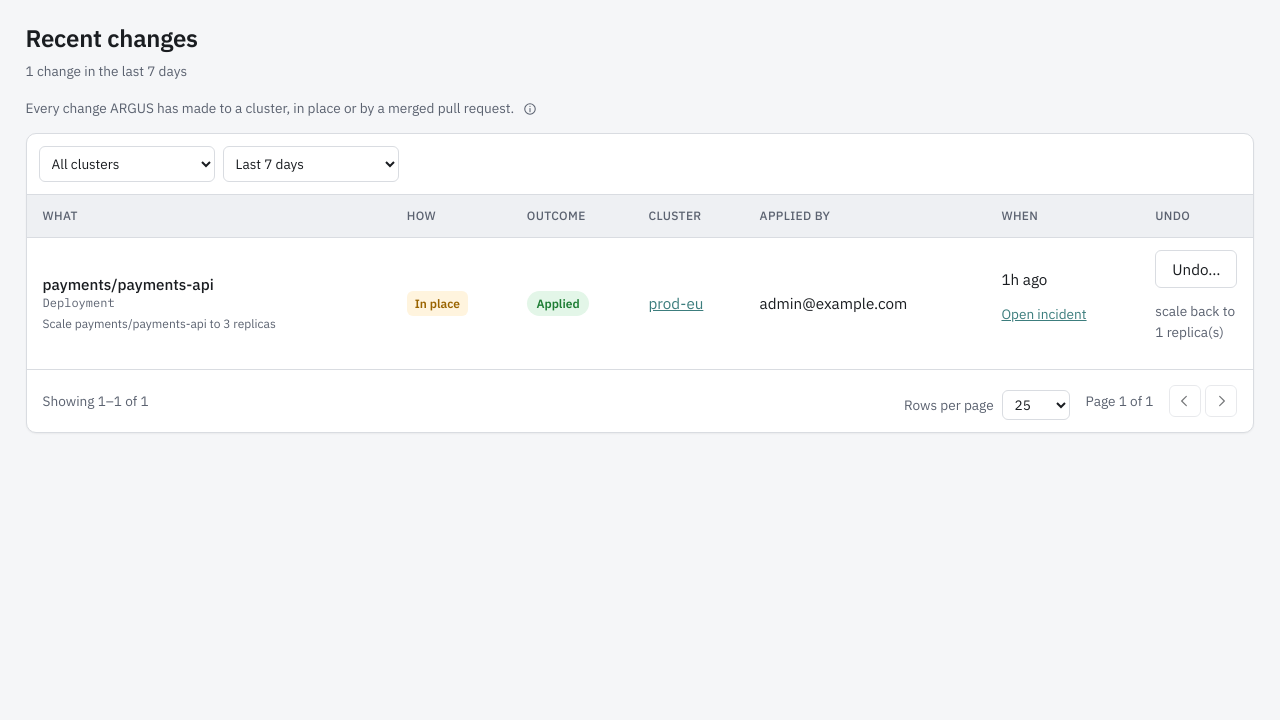
it: RecentChangesPage — the undo control › renders the hub’s refusal in full when the undo fails, never a summary of it
Step 1. Click the button "Undo…" → click(1196, 268), box [1155, 250, 1237, 288]
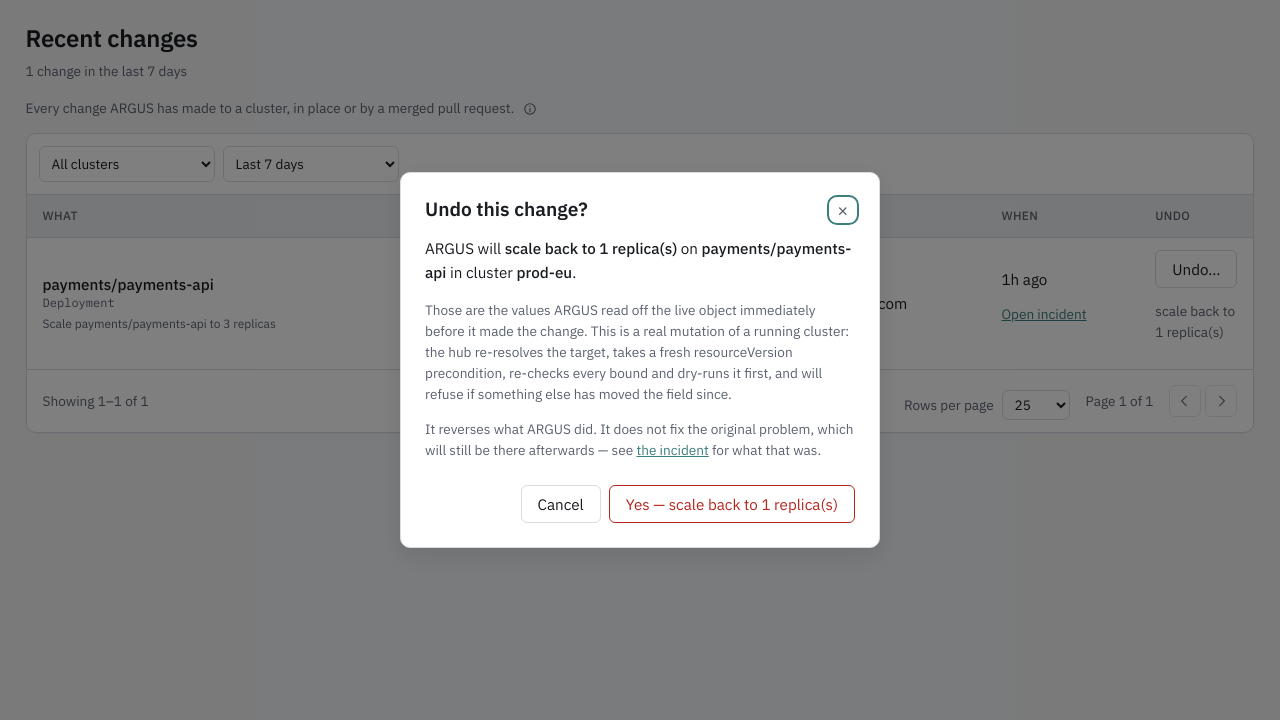
Step 2. Click the button "Yes — scale back to 1 replica(s)" → click(732, 504), box [609, 485, 855, 523]
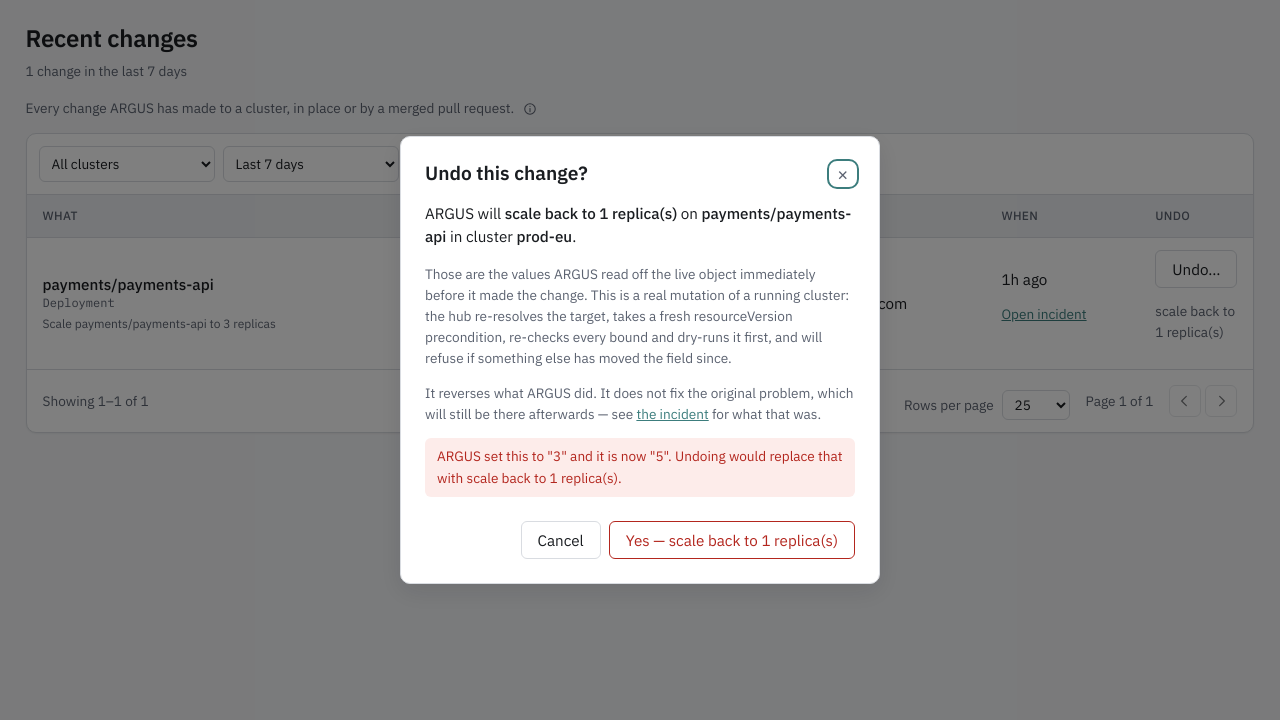
Check: the message shows "ARGUS set this to \"3\" and it is now \"5\". Undoing would replace that with scale back to 1 replica(s).", box [437, 448, 843, 487]
